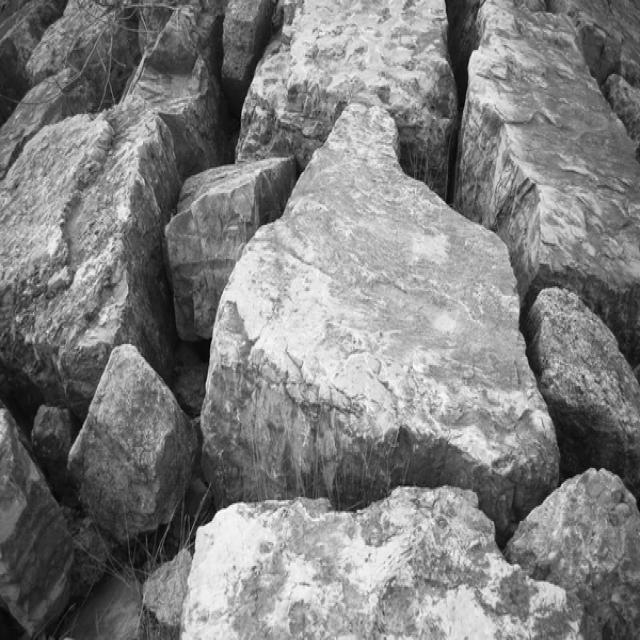Stone: (202, 103, 560, 536), (455, 2, 640, 365), (182, 487, 582, 640), (0, 98, 181, 415), (236, 0, 458, 197), (68, 344, 198, 544), (0, 0, 140, 176), (166, 158, 296, 340), (529, 288, 640, 499), (505, 469, 640, 640), (138, 0, 237, 179), (0, 408, 71, 637)
